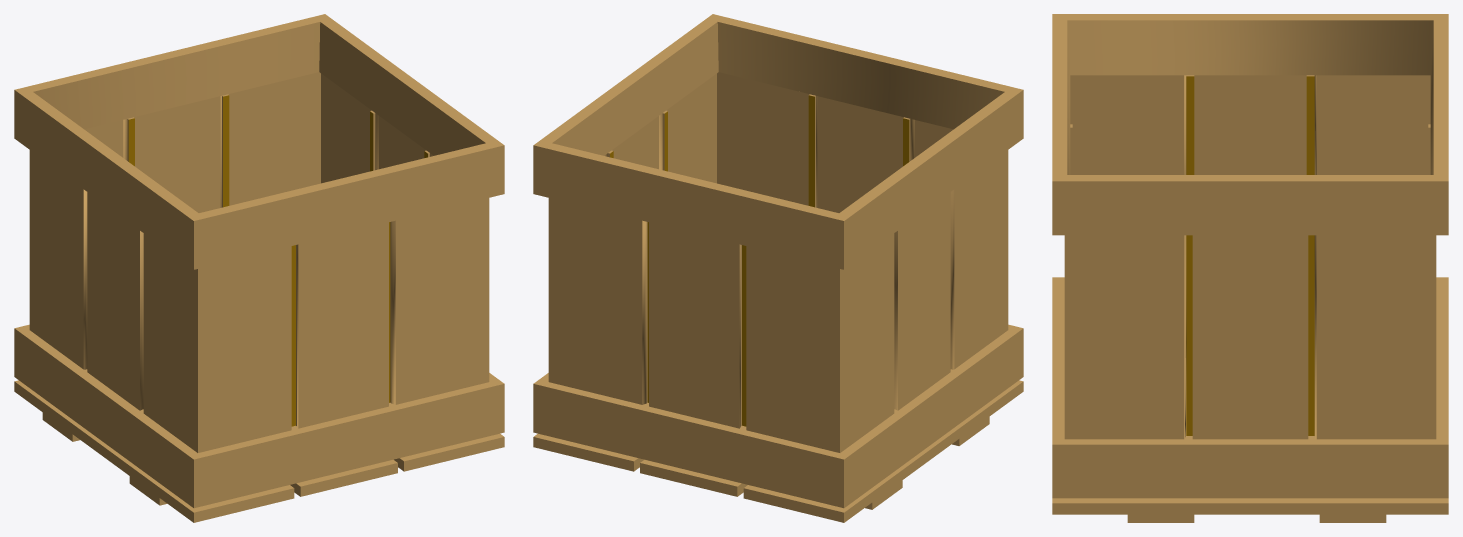
File: Prop_Crate_Opened_01.fbx
3 views of the same model, side by side, from view 1: azimuth 30°, elevation 25°; view 2: azimuth 150°, elevation 25°; view 3: azimuth 270°, elevation 25° (orthographic). The views are drawn at different scales.
Visible parts, largest first — view 1: Prop_Crate_Opened_01; view 2: Prop_Crate_Opened_01; view 3: Prop_Crate_Opened_01.
Boxes of the visible parts, left/top/right/bottom form: Prop_Crate_Opened_01: left=14, top=14, right=504, bottom=522; Prop_Crate_Opened_01: left=533, top=14, right=1023, bottom=522; Prop_Crate_Opened_01: left=1052, top=14, right=1448, bottom=522.
Size of the model in its own units: 56.25 by 53.53 by 56.25.
